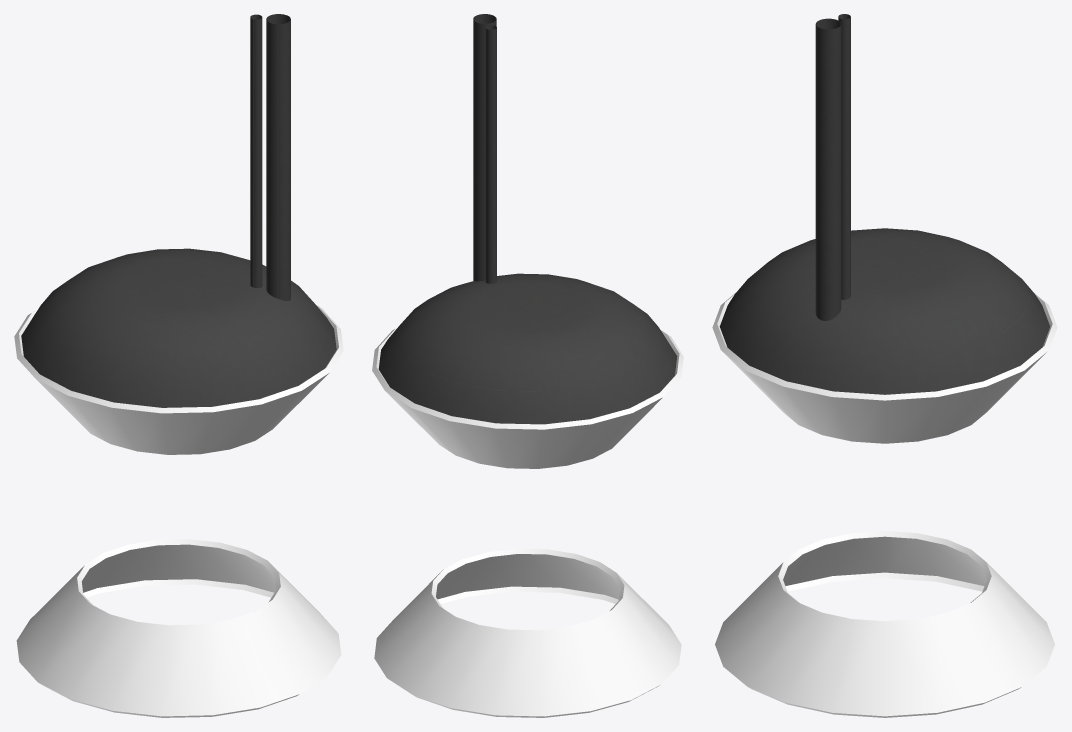
Rendered from Reactor_Housing.fbx.
The picture shows the model from 3 angles, left to right: view 1: azimuth 30°, elevation 25°; view 2: azimuth 150°, elevation 25°; view 3: azimuth 270°, elevation 25°; orthographic projection. The views are drawn at different scales.
Parts seen in each view (by area): view 1: Reactor_Housing; view 2: Reactor_Housing; view 3: Reactor_Housing.
Boxes of the visible parts, left/top/right/bottom form: Reactor_Housing: left=14, top=14, right=343, bottom=717; Reactor_Housing: left=372, top=14, right=683, bottom=717; Reactor_Housing: left=712, top=14, right=1057, bottom=717.
Size of the model in its own units: 1065 by 2251 by 1065.
